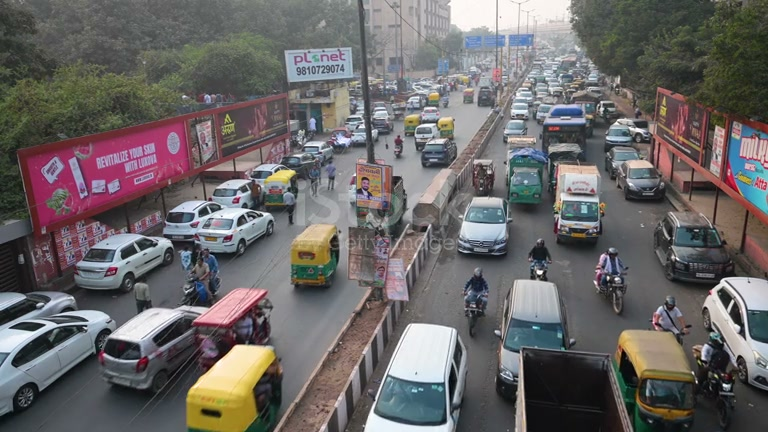car: (0, 309, 115, 419), (363, 322, 469, 430), (494, 279, 578, 400), (514, 346, 633, 431), (97, 305, 207, 391), (609, 328, 699, 430), (185, 343, 285, 431), (700, 276, 768, 392), (652, 210, 735, 284), (73, 232, 175, 292), (190, 207, 276, 256), (552, 172, 605, 246), (456, 196, 513, 256), (161, 199, 226, 240), (506, 149, 548, 204), (543, 104, 588, 148), (249, 163, 297, 203), (620, 160, 665, 202), (0, 291, 48, 327), (604, 146, 641, 179), (212, 179, 254, 207), (420, 138, 457, 168), (279, 152, 320, 179), (604, 125, 636, 150), (413, 124, 439, 152), (503, 120, 528, 144), (328, 128, 355, 150), (420, 107, 440, 123)
motorcycle: (700, 364, 739, 430), (594, 268, 628, 316), (463, 292, 489, 337), (528, 258, 551, 281)
pedestrian: (651, 295, 691, 338), (594, 247, 629, 294), (463, 267, 489, 312), (526, 238, 552, 280), (133, 277, 153, 314), (283, 185, 297, 226), (324, 160, 337, 192)
truck: (187, 344, 283, 430), (191, 286, 273, 369), (552, 162, 605, 245), (289, 222, 340, 288)
